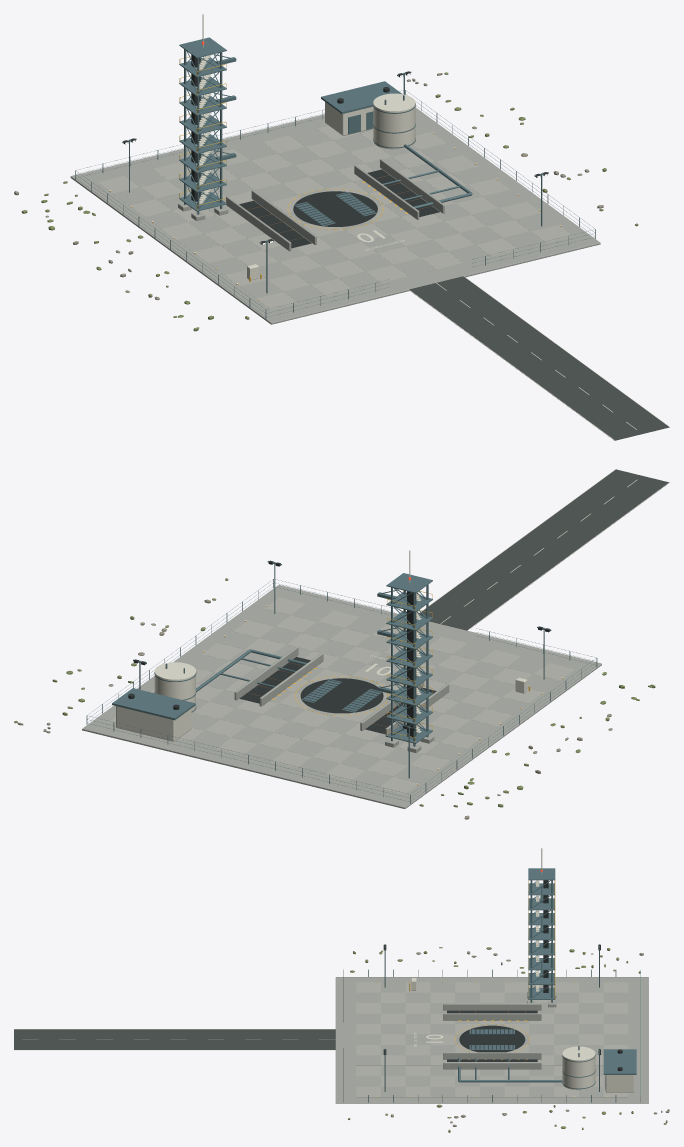
Rendered from launchpad.glb.
3 renders of one model, top to bottom at view 1: azimuth 30°, elevation 25°; view 2: azimuth 150°, elevation 25°; view 3: azimuth 270°, elevation 25°, orthographic. The views are drawn at different scales.
Parts seen in each view (by area): view 1: Pad01 Weathered warm concrete, Pad01 Concrete variation, Pad01 Oxidised blue steel, Pad01 Service road, Pad01 Warm white paint, Pad01 Scorched graphite, Pad01 Safety ochre, Pad01 Coastal scrub; view 2: Pad01 Weathered warm concrete, Pad01 Concrete variation, Pad01 Oxidised blue steel, Pad01 Service road, Pad01 Warm white paint, Pad01 Scorched graphite, Pad01 Safety ochre, Pad01 Coastal scrub; view 3: Pad01 Weathered warm concrete, Pad01 Concrete variation, Pad01 Service road, Pad01 Oxidised blue steel, Pad01 Warm white paint, Pad01 Scorched graphite, Pad01 Safety ochre.
Boxes of the visible parts, x1,y1,x2,y2 form: Pad01 Weathered warm concrete: [70, 107, 600, 324]; Pad01 Concrete variation: [98, 126, 573, 309]; Pad01 Oxidised blue steel: [75, 37, 595, 318]; Pad01 Service road: [409, 276, 669, 440]; Pad01 Warm white paint: [196, 14, 669, 440]; Pad01 Scorched graphite: [123, 54, 547, 248]; Pad01 Safety ochre: [109, 56, 561, 300]; Pad01 Coastal scrub: [21, 72, 638, 331]; Pad01 Weathered warm concrete: [82, 584, 601, 808]; Pad01 Concrete variation: [109, 597, 575, 794]; Pad01 Oxidised blue steel: [86, 561, 597, 803]; Pad01 Service road: [418, 469, 668, 630]; Pad01 Warm white paint: [116, 469, 669, 741]; Pad01 Scorched graphite: [128, 560, 550, 741]; Pad01 Safety ochre: [203, 590, 563, 785]; Pad01 Coastal scrub: [14, 578, 655, 807]; Pad01 Weathered warm concrete: [335, 977, 648, 1103]; Pad01 Concrete variation: [356, 982, 628, 1097]; Pad01 Service road: [14, 1029, 335, 1049]; Pad01 Oxidised blue steel: [343, 868, 640, 1102]; Pad01 Warm white paint: [14, 848, 634, 1092]; Pad01 Scorched graphite: [383, 880, 622, 1071]; Pad01 Safety ochre: [376, 880, 608, 1097].
Size of the model in its own units: 106 by 41.38 by 159.
